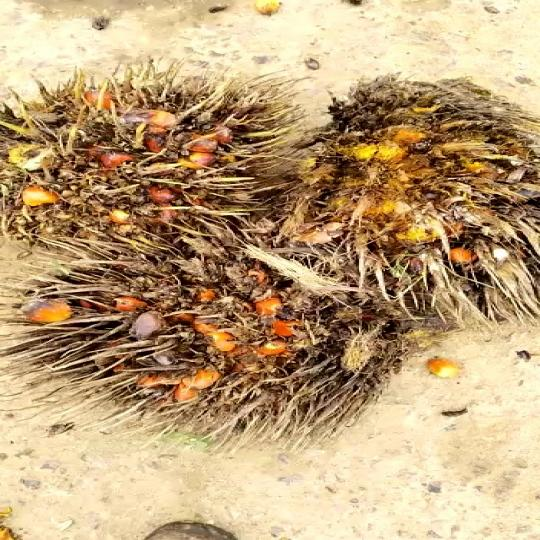terlalu masak: (0, 228, 437, 433), (255, 68, 540, 307), (0, 92, 288, 250)
